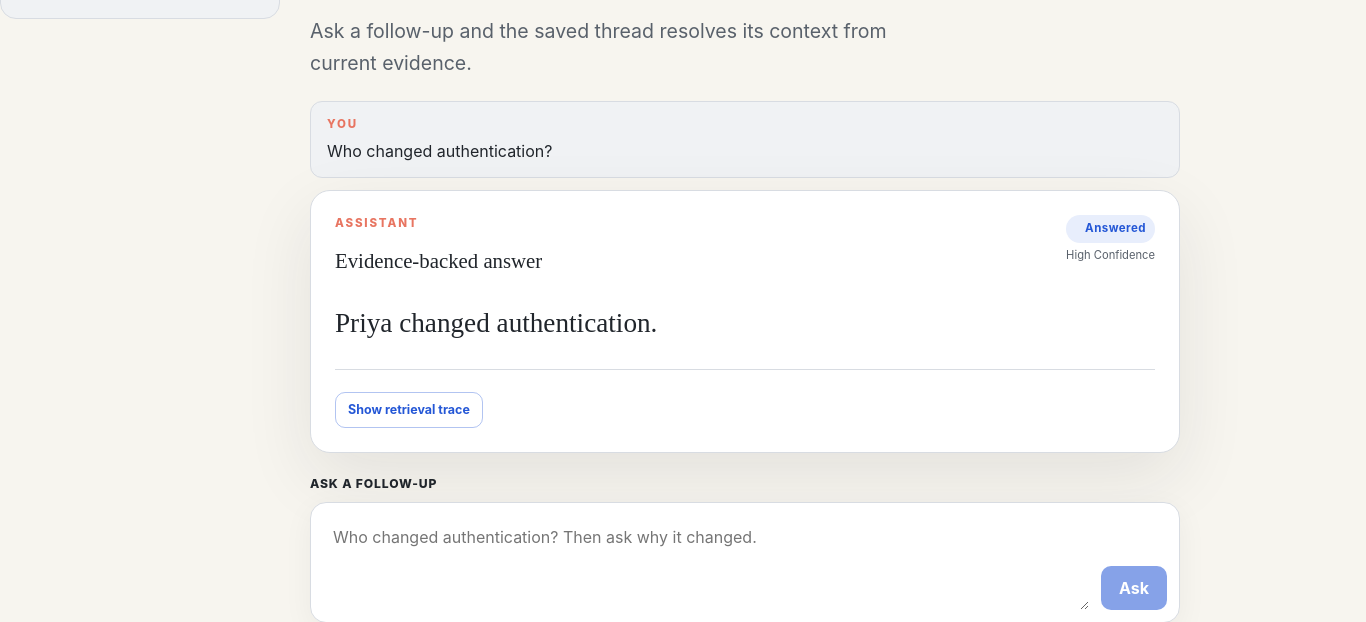
Ask › appends a follow-up to the selected conversation
This screenshot has width=1366, height=622.
(page scrolled)
Expected: the text "Priya changed authentication." is shown, x1=335 y1=308 x2=657 y2=338
Type "Why did this get changed?" into the text box labelled "Ask a follow-up" at (706, 563), box x1=323 y1=515 x2=1089 y2=610
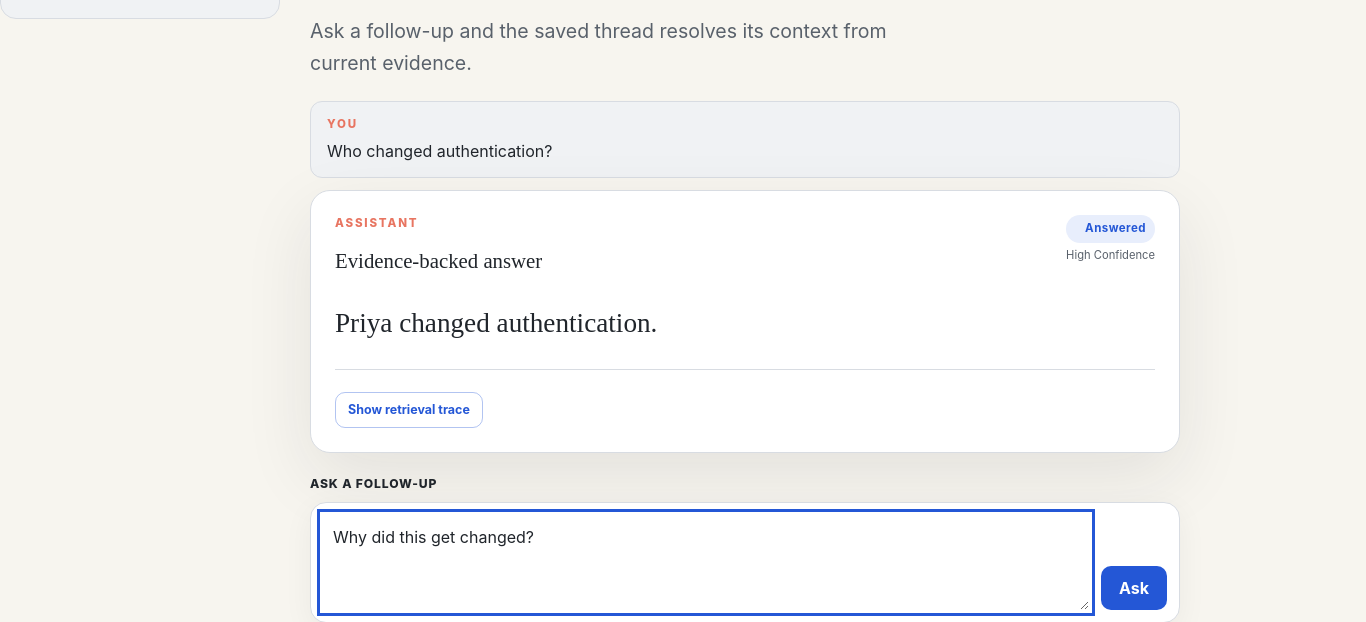
Click the button "Ask" at (1134, 588), box x1=1101 y1=566 x2=1167 y2=610
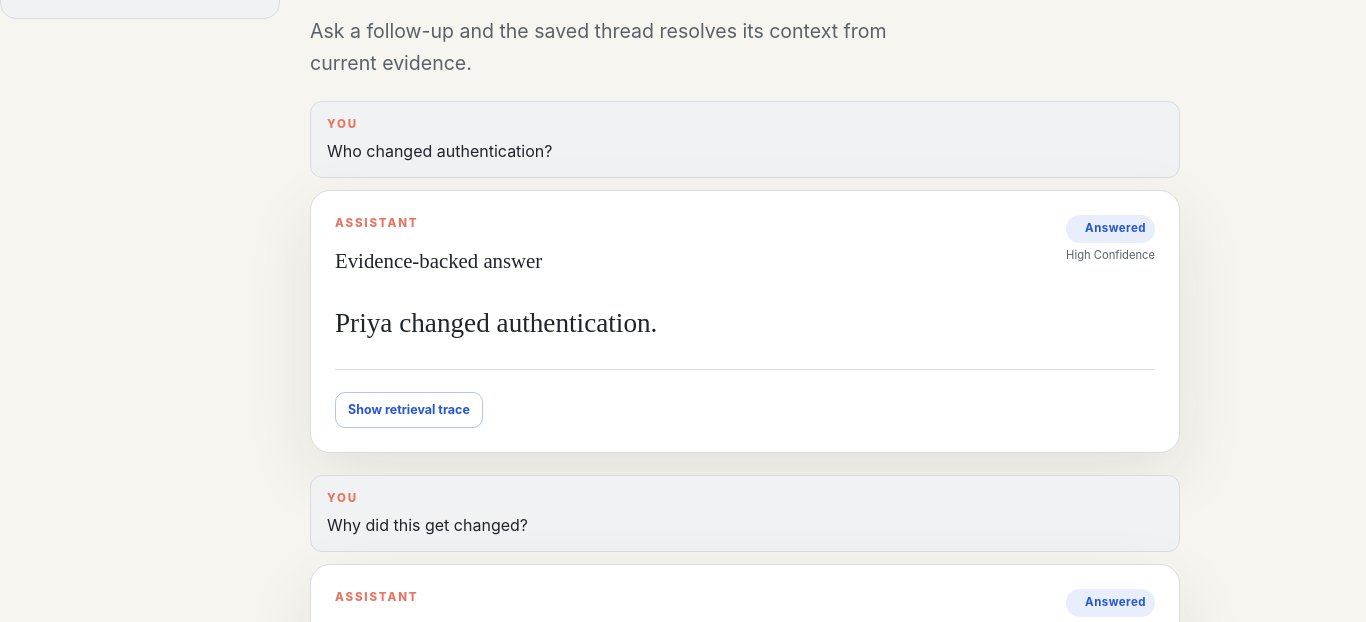
Expected: the text "Why did this get changed?" is shown once, x1=327 y1=515 x2=528 y2=535
